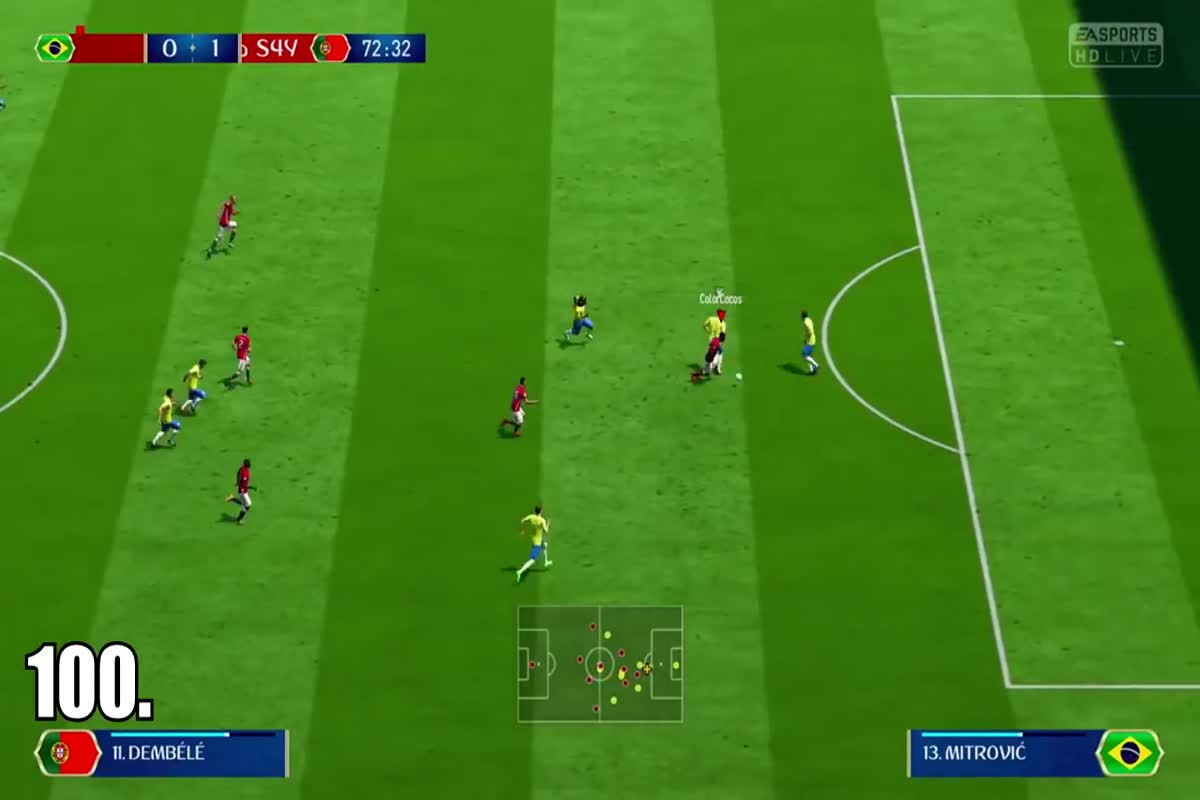ball: (731, 369, 750, 387)
